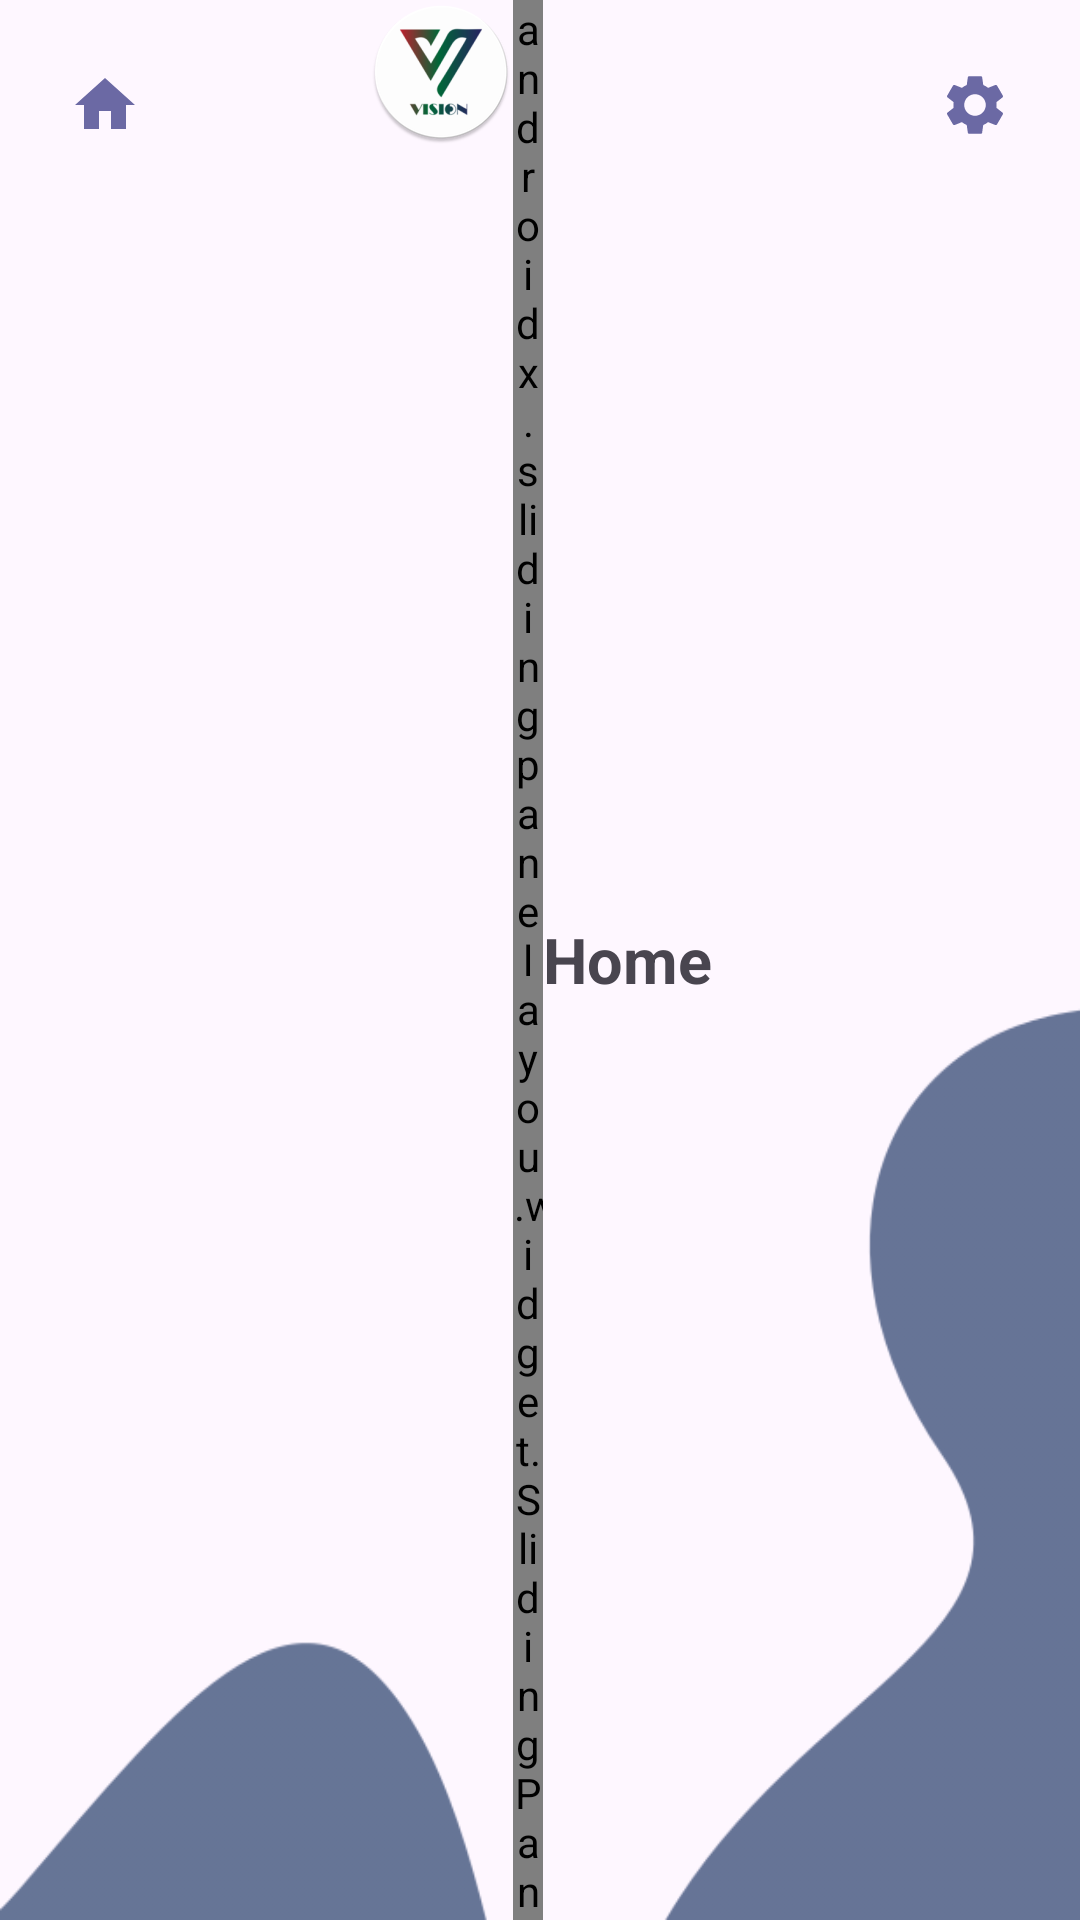

Locate icon controls on the screen. Image size 1080px x 1920px, boxes as (x1, y1, x2, y2).
home: (75, 78, 135, 129)
settings: (947, 76, 1003, 134)
